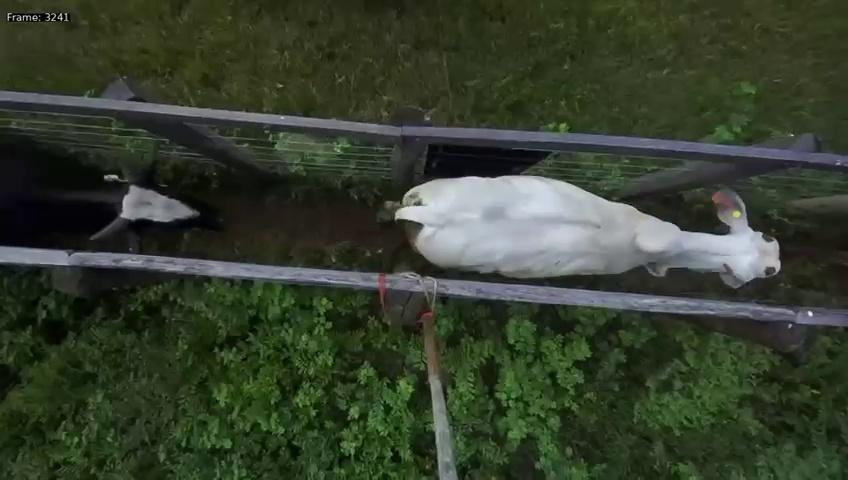cattle: (389, 142, 783, 289)
